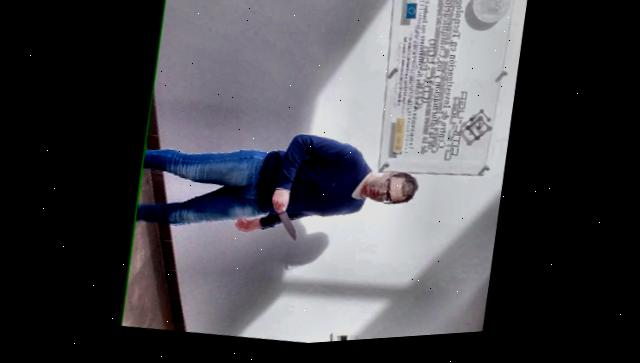pocket-knife: (267, 199, 301, 245)
